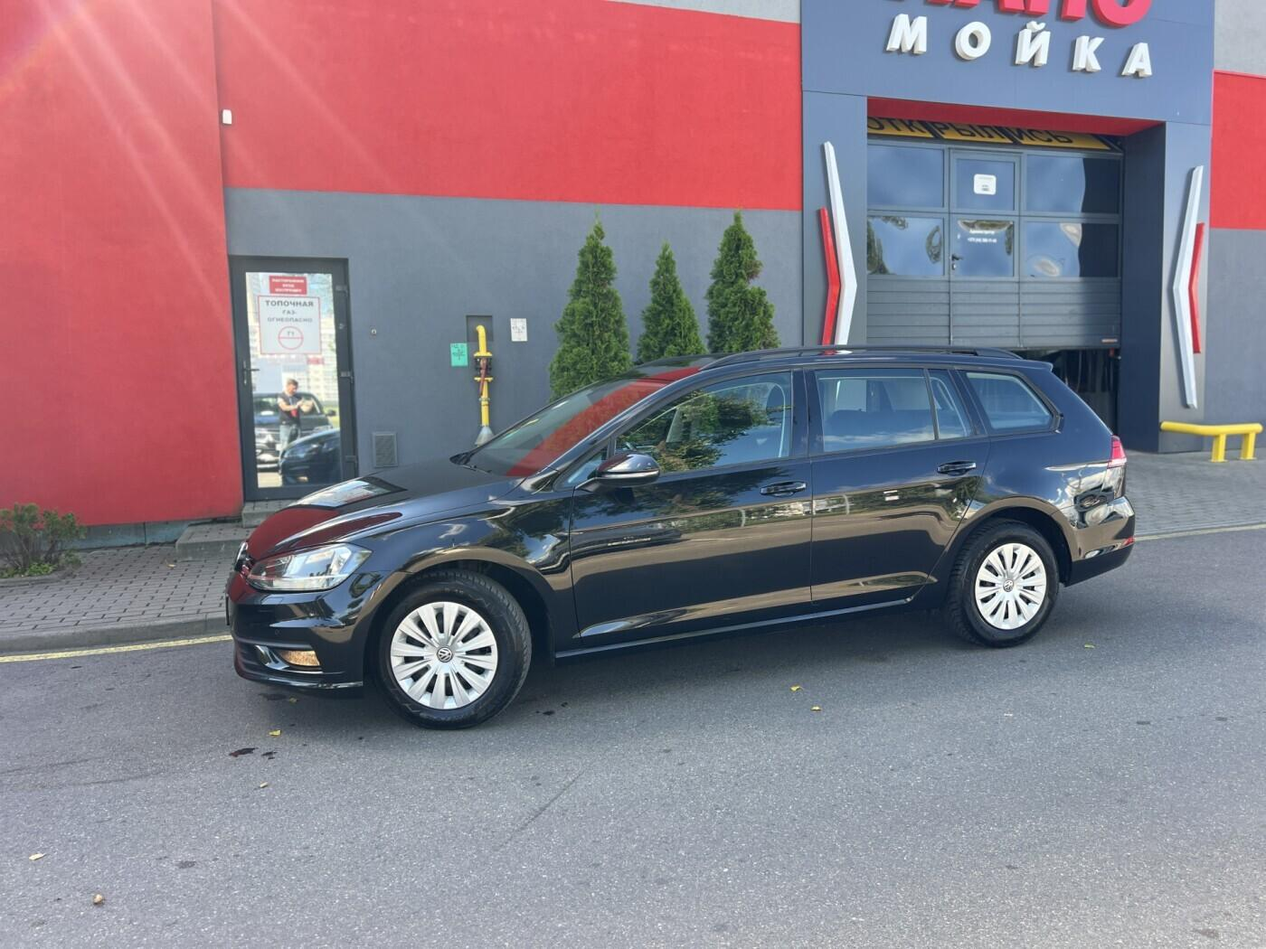Golf_2017-2021: (213, 337, 1151, 723)
